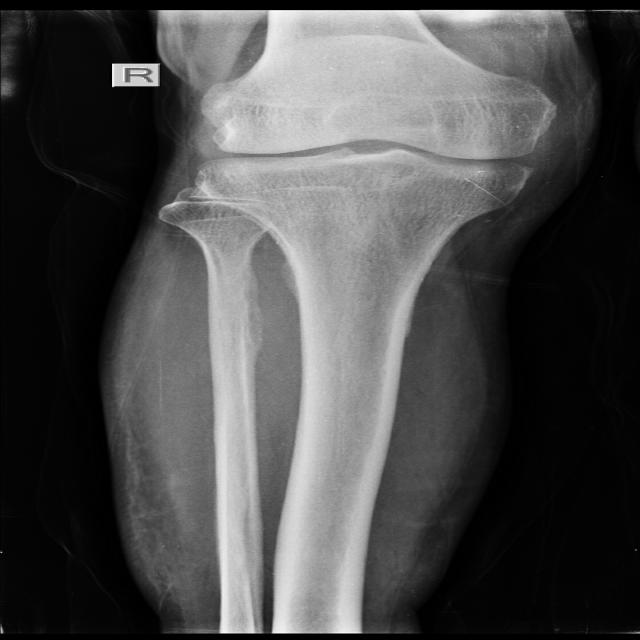normal: (198, 79, 559, 203)
